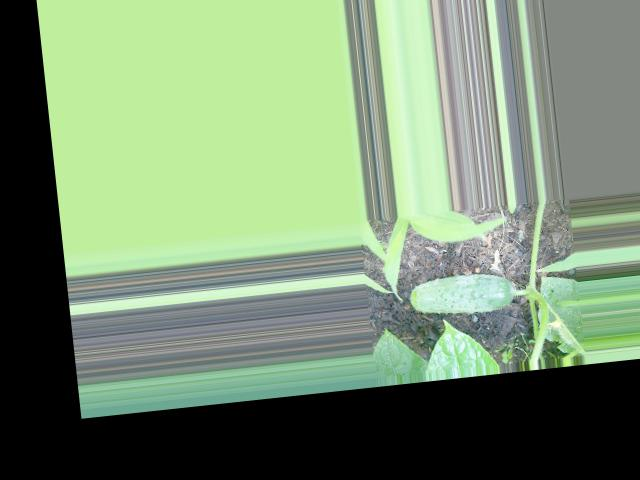cucumber: (406, 269, 516, 319)
